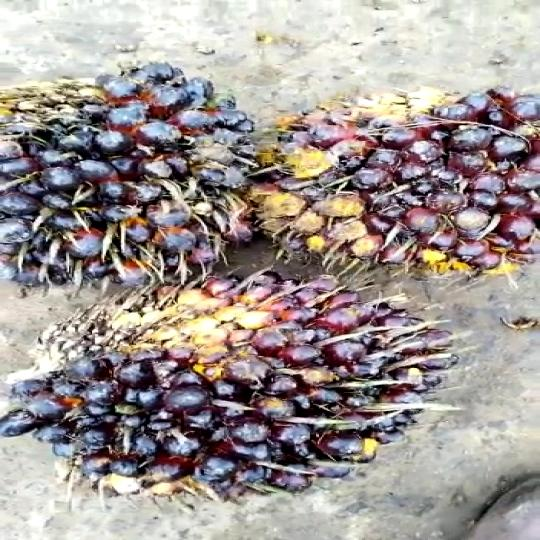mentah: (11, 272, 463, 500), (262, 64, 540, 306), (1, 53, 268, 298)
